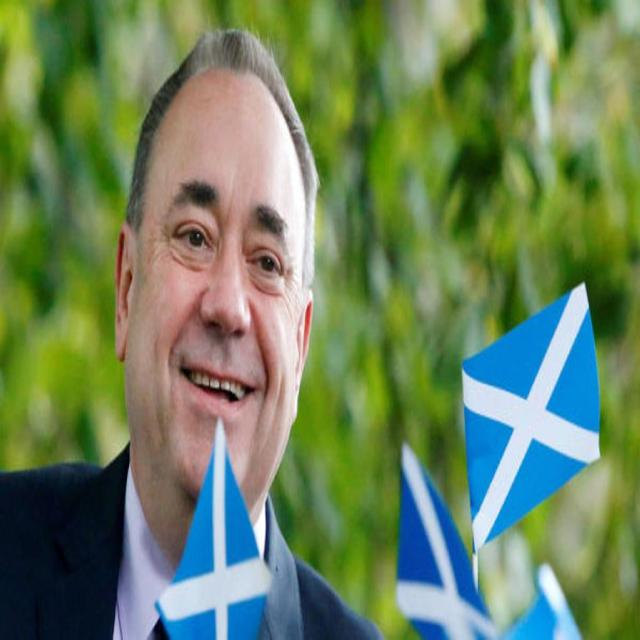Face: (152, 48, 315, 521)
